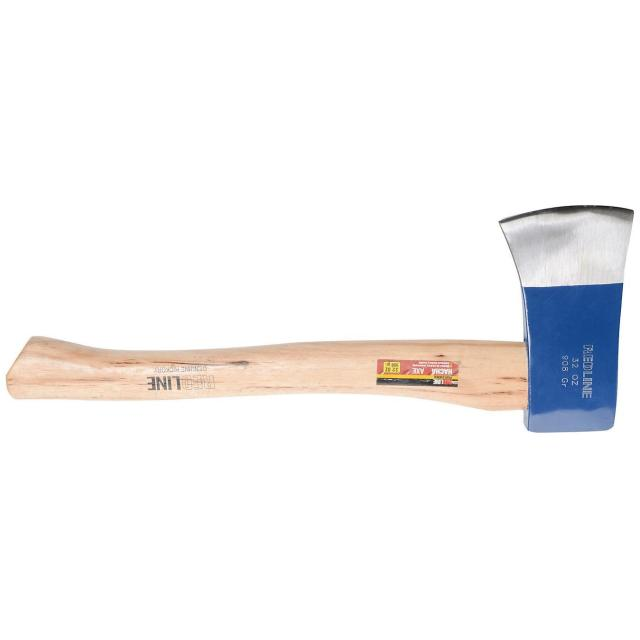Kapak: (20, 175, 636, 448)
